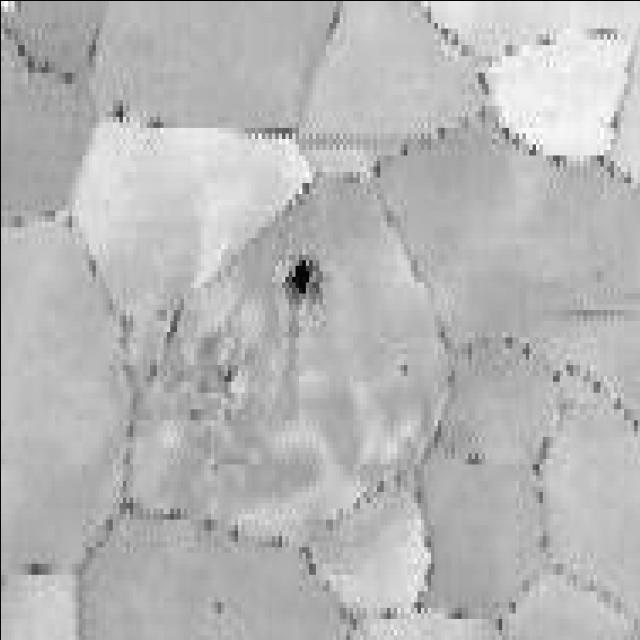good_void: (284, 255, 324, 309)
